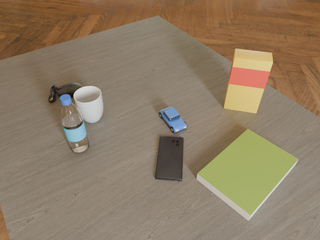book: (197, 129, 298, 220)
bottle: (60, 94, 89, 153)
box: (224, 49, 273, 113)
cup: (73, 86, 103, 123)
mouse: (49, 83, 84, 102)
phone: (155, 136, 183, 181)
toy_car: (159, 107, 187, 133)
